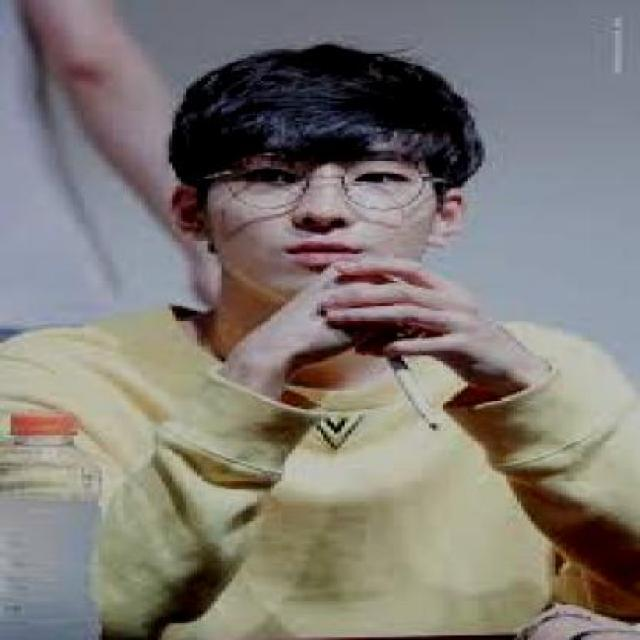glasses: (214, 142, 450, 222)
